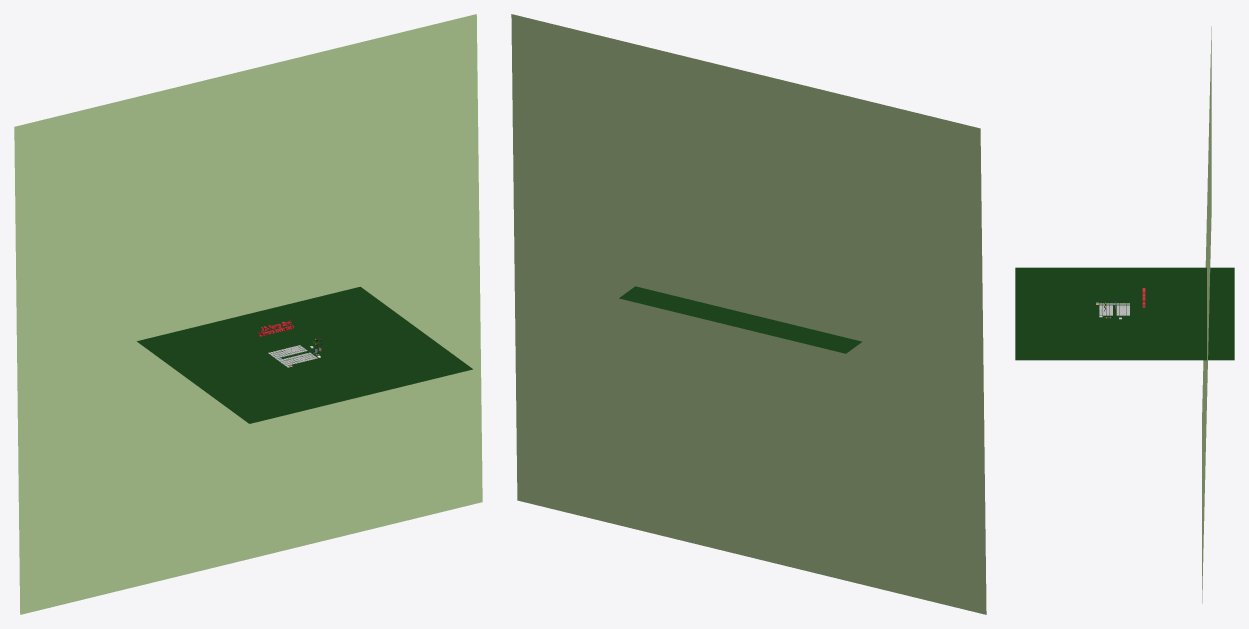
The model's file is CardBase.fbx.
3 views of the same model, side by side, from view 1: azimuth 30°, elevation 25°; view 2: azimuth 150°, elevation 25°; view 3: azimuth 270°, elevation 25° (orthographic). The views are drawn at different scales.
Parts seen in each view (by area): view 1: Plane.001, Plane; view 2: Plane.001, Plane; view 3: Plane, Plane.001.
Boxes of the visible parts, box(x1,y1,x2,y2) form: Plane.001: box(14, 14, 482, 614); Plane: box(137, 286, 472, 423); Plane.001: box(511, 14, 986, 614); Plane: box(619, 286, 862, 353); Plane: box(1015, 267, 1234, 360); Plane.001: box(1202, 26, 1211, 603).
Bounding box in the file's own units: 1311 × 1311 × 635.
